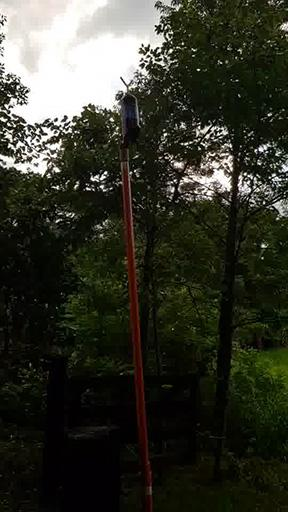Detector_Tensao_Contato: (119, 78, 141, 144)
Vara_Manobra: (116, 145, 151, 509)
